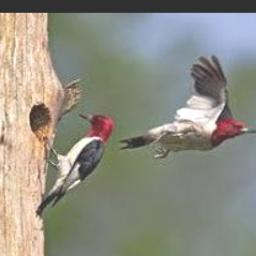Woodpecker: (118, 55, 256, 159), (36, 112, 116, 217)
